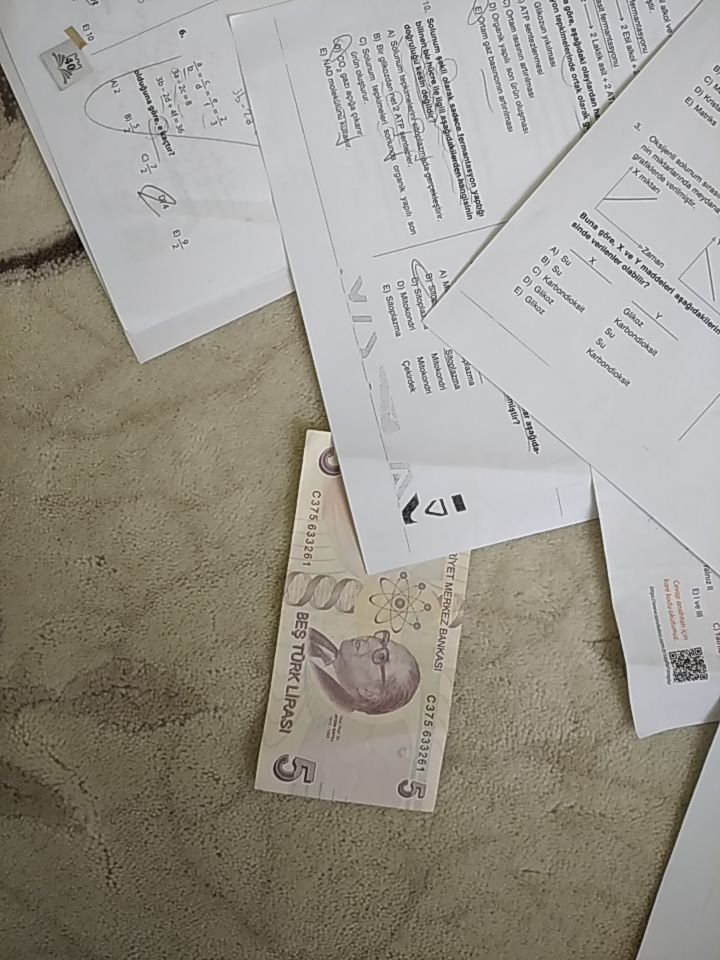5TL: (249, 428, 471, 815)
